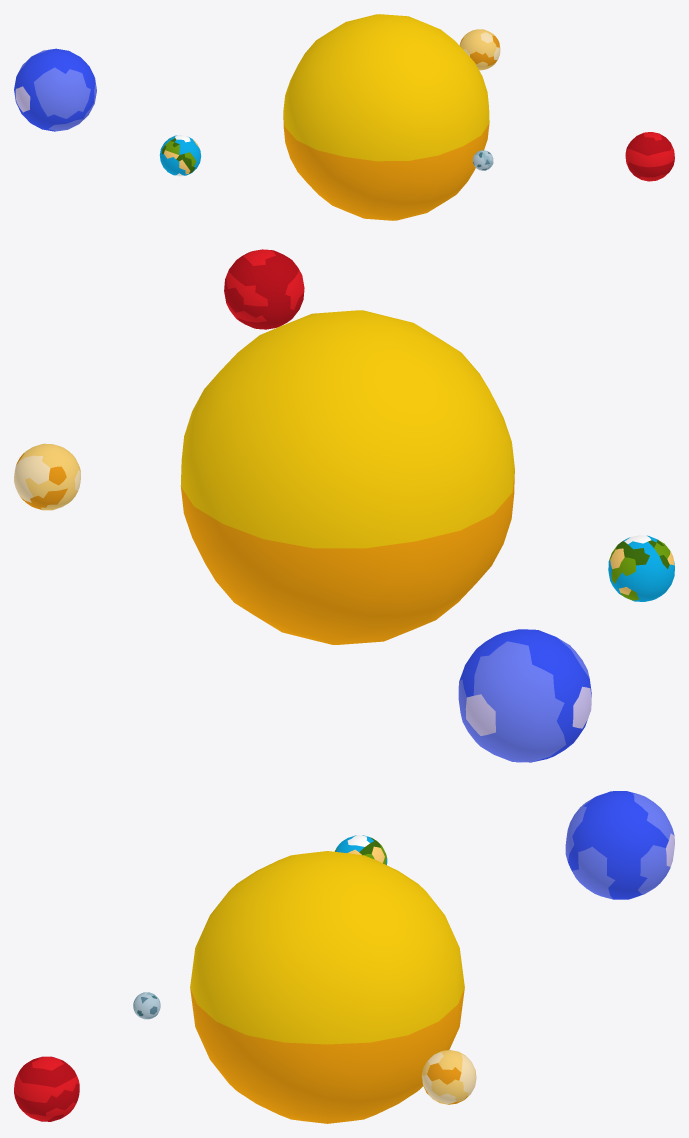
The model's file is sun.glb.
3 views of the same model, one above another, from view 1: azimuth 30°, elevation 25°; view 2: azimuth 150°, elevation 25°; view 3: azimuth 270°, elevation 25° (orthographic). The views are drawn at different scales.
Parts seen in each view (by area): view 1: sun, neptune, mars, earth, venus, mercury; view 2: sun, neptune, mars, venus, earth; view 3: sun, neptune, mars, venus, earth, mercury.
Boxes of the visible parts, x1=… form: sun: x1=283, y1=14, x2=489, y2=220; neptune: x1=14, y1=48, x2=96, y2=131; mars: x1=625, y1=132, x2=674, y2=181; earth: x1=159, y1=135, x2=201, y2=176; venus: x1=459, y1=29, x2=500, y2=70; mercury: x1=473, y1=150, x2=493, y2=170; sun: x1=180, y1=310, x2=514, y2=644; neptune: x1=458, y1=629, x2=591, y2=762; mars: x1=224, y1=249, x2=304, y2=329; venus: x1=14, y1=443, x2=80, y2=510; earth: x1=608, y1=535, x2=674, y2=601; sun: x1=190, y1=851, x2=464, y2=1123; neptune: x1=565, y1=791, x2=674, y2=899; mars: x1=14, y1=1056, x2=79, y2=1121; venus: x1=421, y1=1050, x2=476, y2=1104; earth: x1=335, y1=835, x2=387, y2=864; mercury: x1=133, y1=992, x2=160, y2=1019.
Bounding box in the file's own units: 17.9 × 7.44 × 17.79.
Materials: 1 (1 with a texture image).
